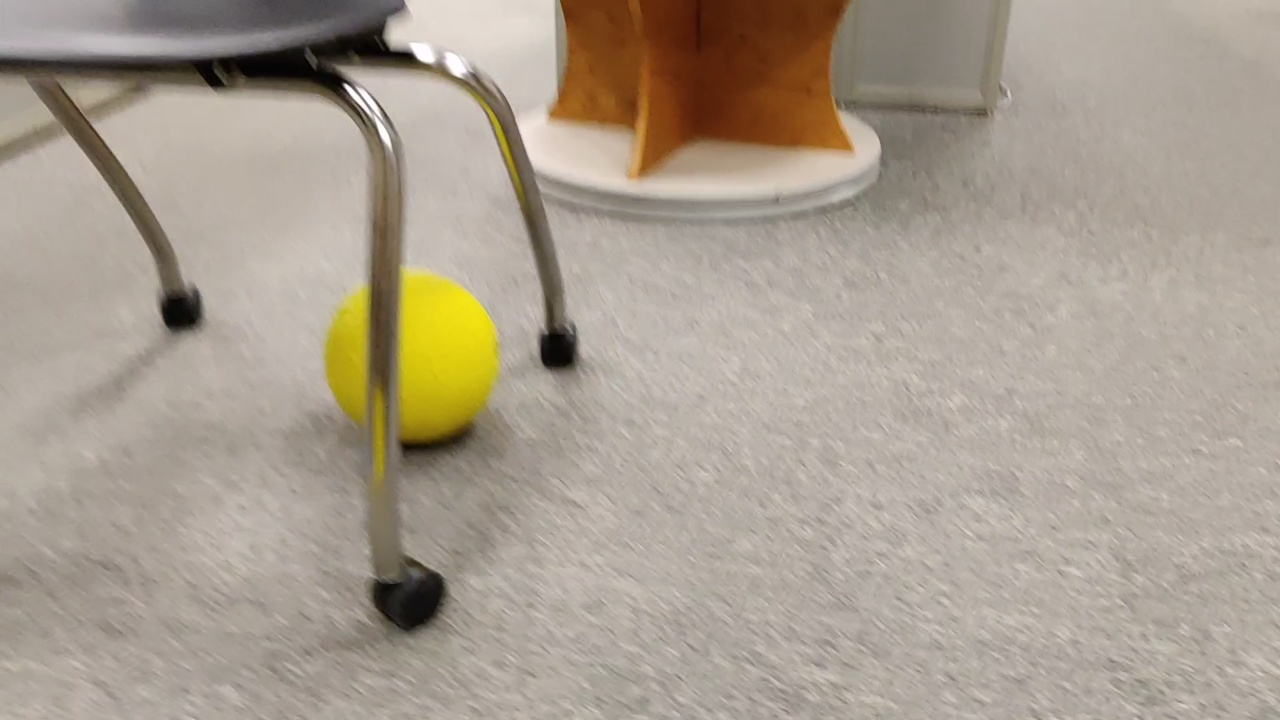Ball: (325, 269, 497, 444)
